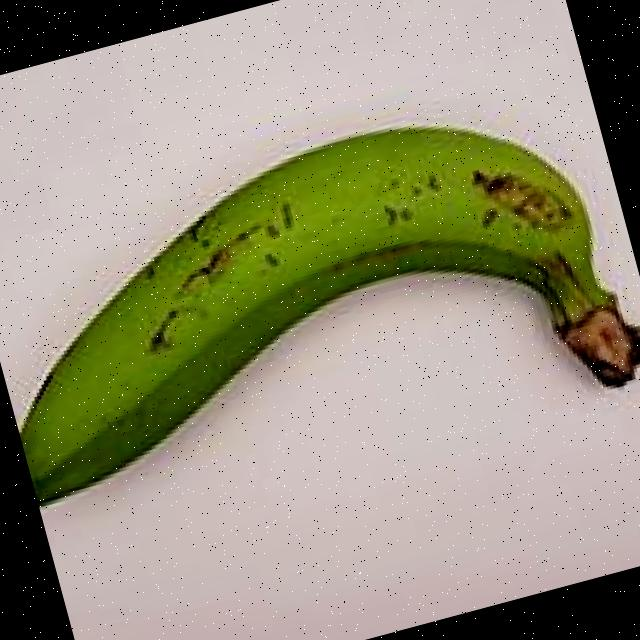Raw: (0, 48, 640, 581)
